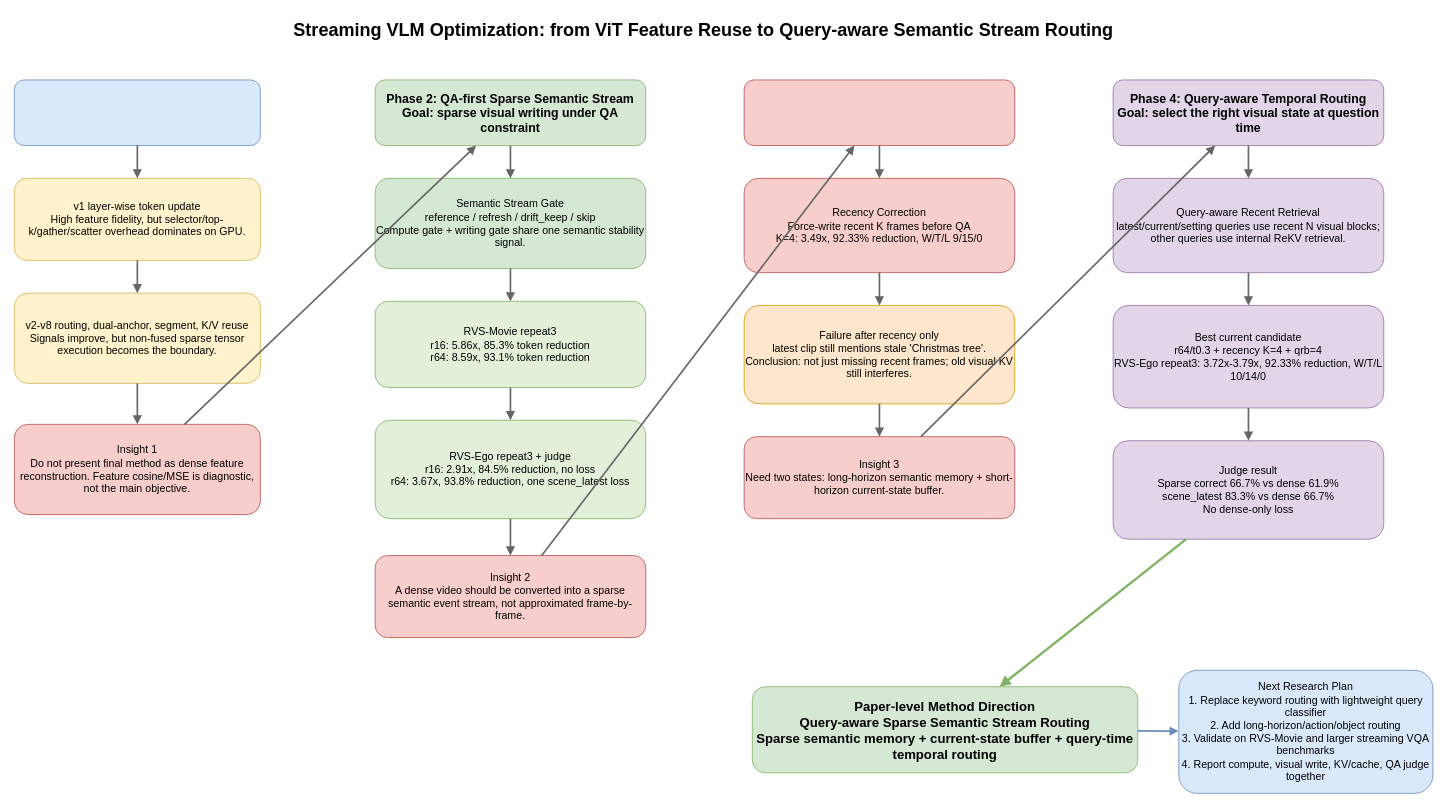
Image size: 1447x808. Some labels were removed from this diagram. The shapes that lost their labels are listed below. From the top down, each one's centre as x and y in pixels, then its label:
pixel 137 112: Phase 1: ViT Sparse Recompute Goal: reuse inter-frame redundancy inside ViT
pixel 879 112: Phase 3: Current-state Correction Goal: repair latest/current-state risk
